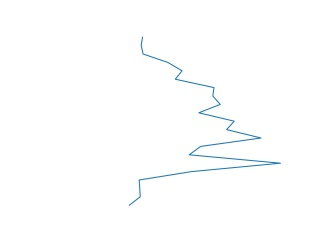floodSwamp: (127, 37, 282, 206)
